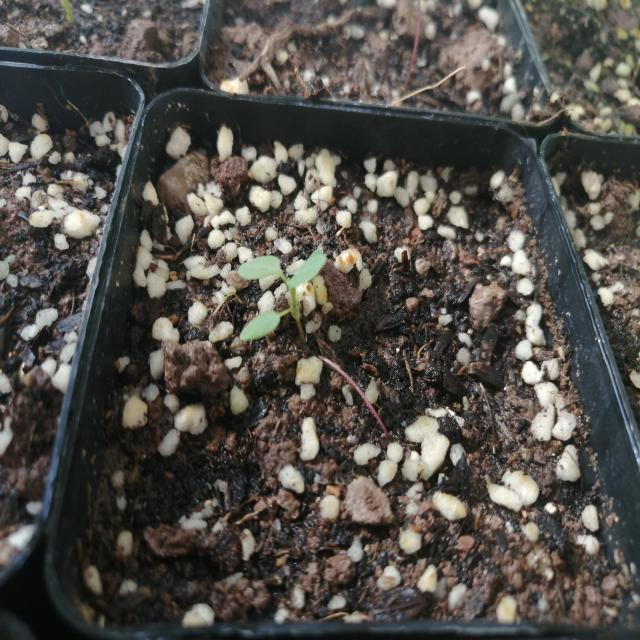goosefoots: (238, 234, 342, 372)
